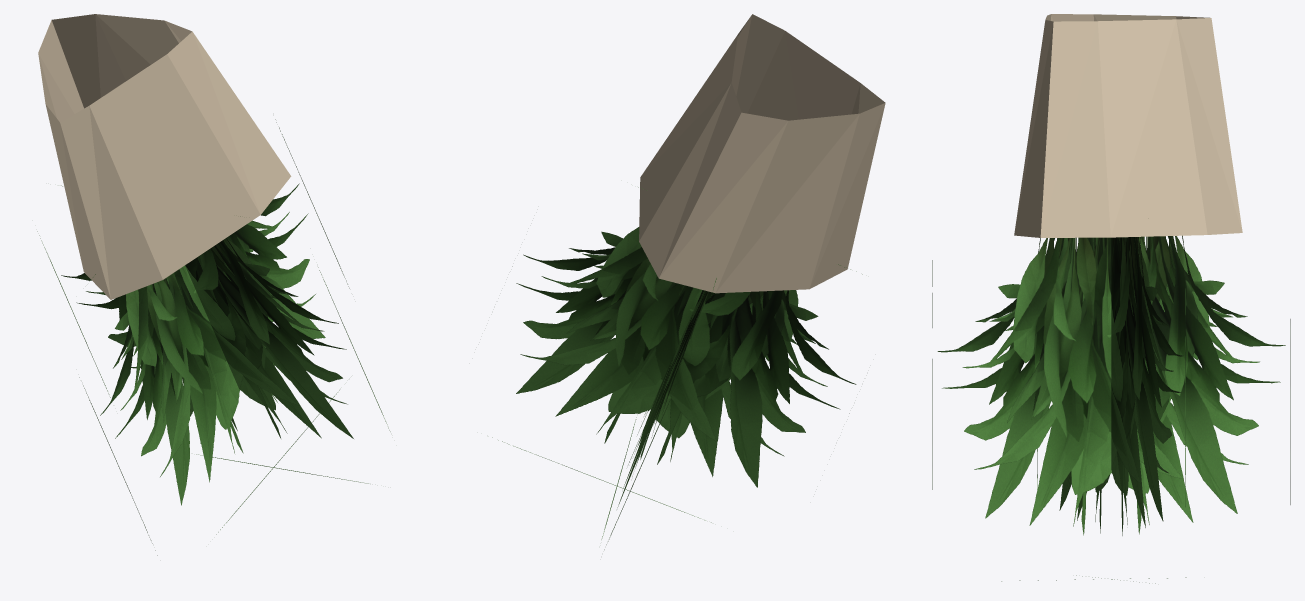
File: Plant_type12.FBX
The picture shows the model from 3 angles, left to right: view 1: azimuth 30°, elevation 25°; view 2: azimuth 150°, elevation 25°; view 3: azimuth 270°, elevation 25°; orthographic projection. The views are drawn at different scales.
Parts seen in each view (by area): view 1: plant_02; view 2: plant_02; view 3: plant_02.
Boxes of the visible parts, <box> form: plant_02: <box>37,14,390,555</box>; plant_02: <box>492,14,885,549</box>; plant_02: <box>932,14,1290,583</box>.
Size of the model in its own units: 52.62 by 69.63 by 40.07.
Materials: 3 (1 with a texture image).
